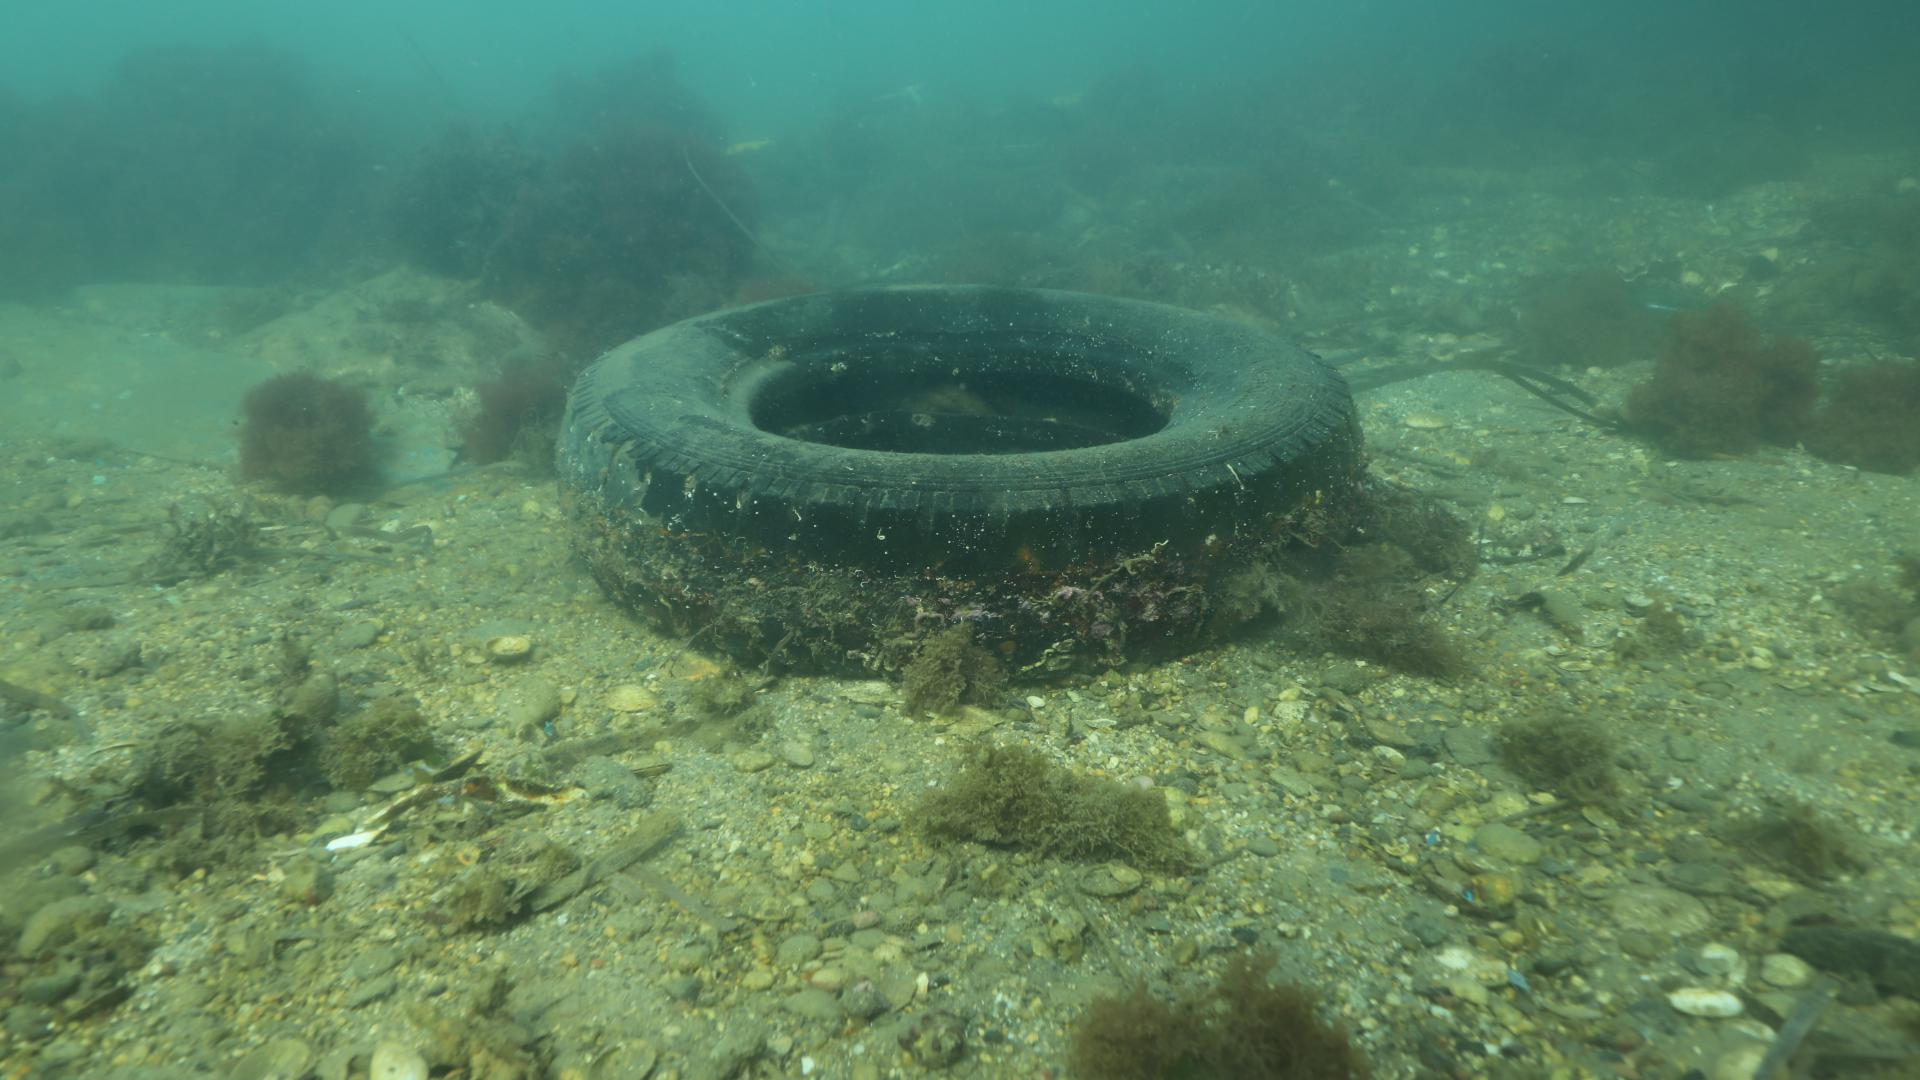tire: (554, 281, 1365, 684)
